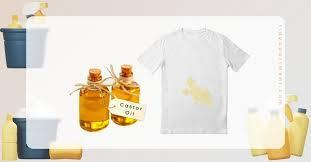mustard: (181, 79, 212, 108)
